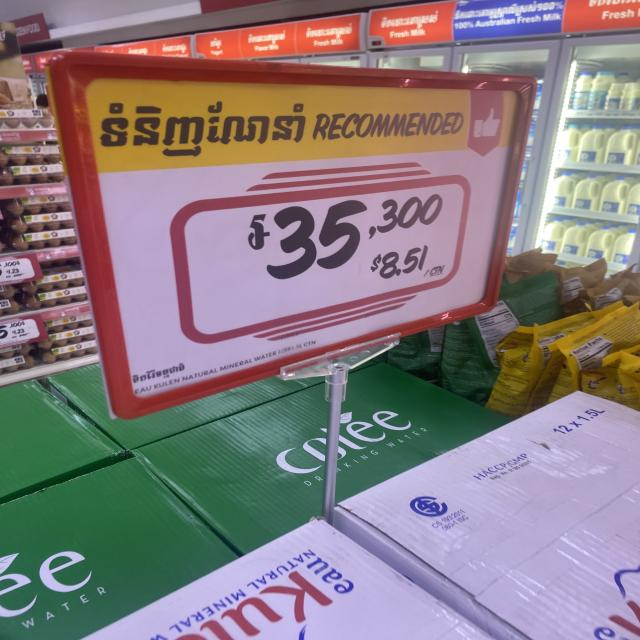145: (367, 189, 450, 242)
178: (368, 241, 430, 286)
726: (264, 198, 370, 285)
893: (547, 405, 610, 440)
Yolov11_80vkh: (92, 93, 316, 173), (127, 360, 191, 387), (235, 209, 272, 251)
